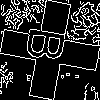B: (25, 25, 76, 66)
